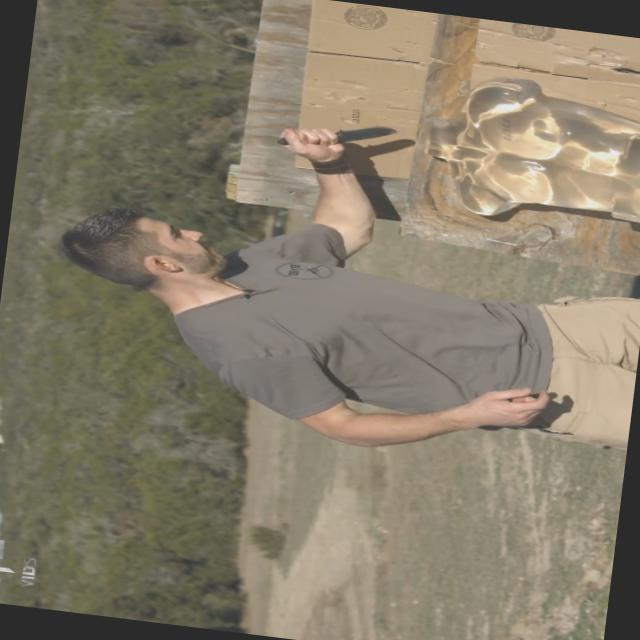knife: (265, 110, 403, 164)
